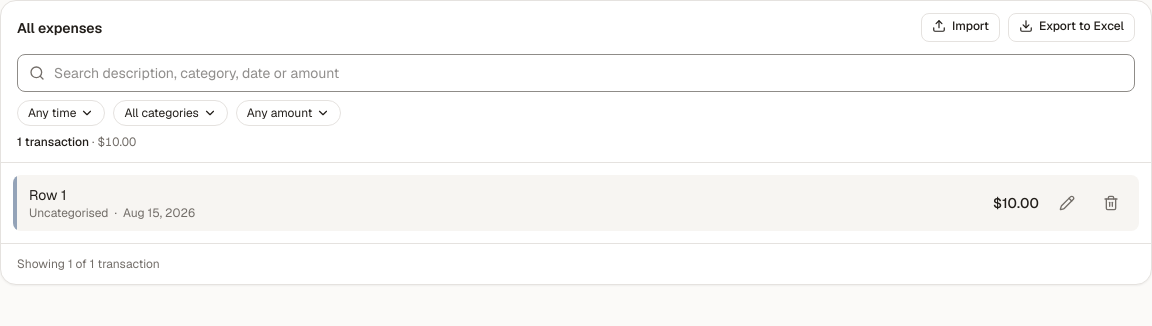
Test: AllExpenses › says so in place when the export fails
Check: the text "1 transaction" is shown, box x1=17 y1=134 x2=89 y2=150
Click the button with aria-label "Export 1 transaction to Excel".
click(1072, 28)  # box x1=1008 y1=13 x2=1135 y2=42
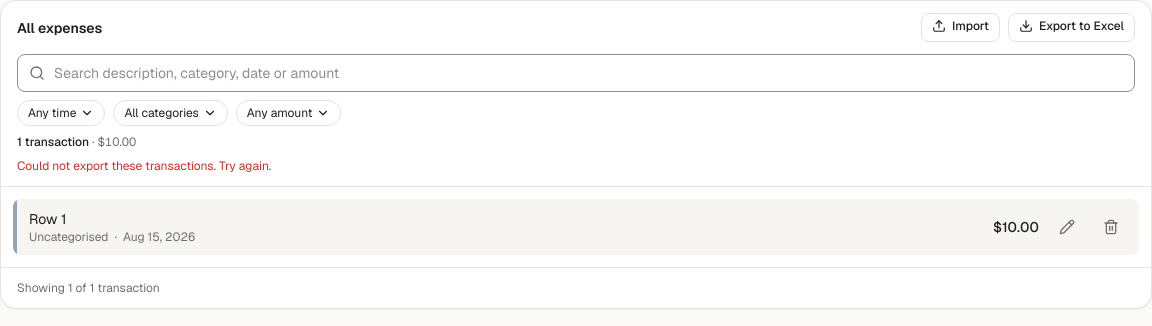
Check: the message "Could not export these transactions. Try again." is shown, box x1=17 y1=158 x2=271 y2=174
